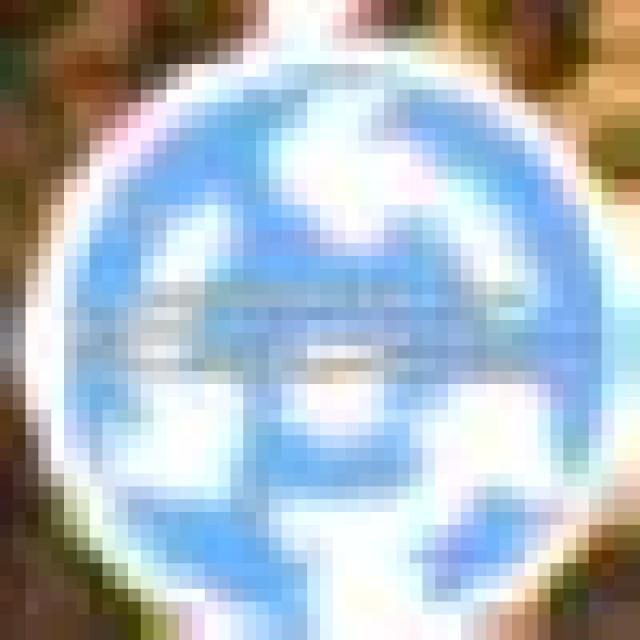roundabout: (24, 38, 620, 623)
